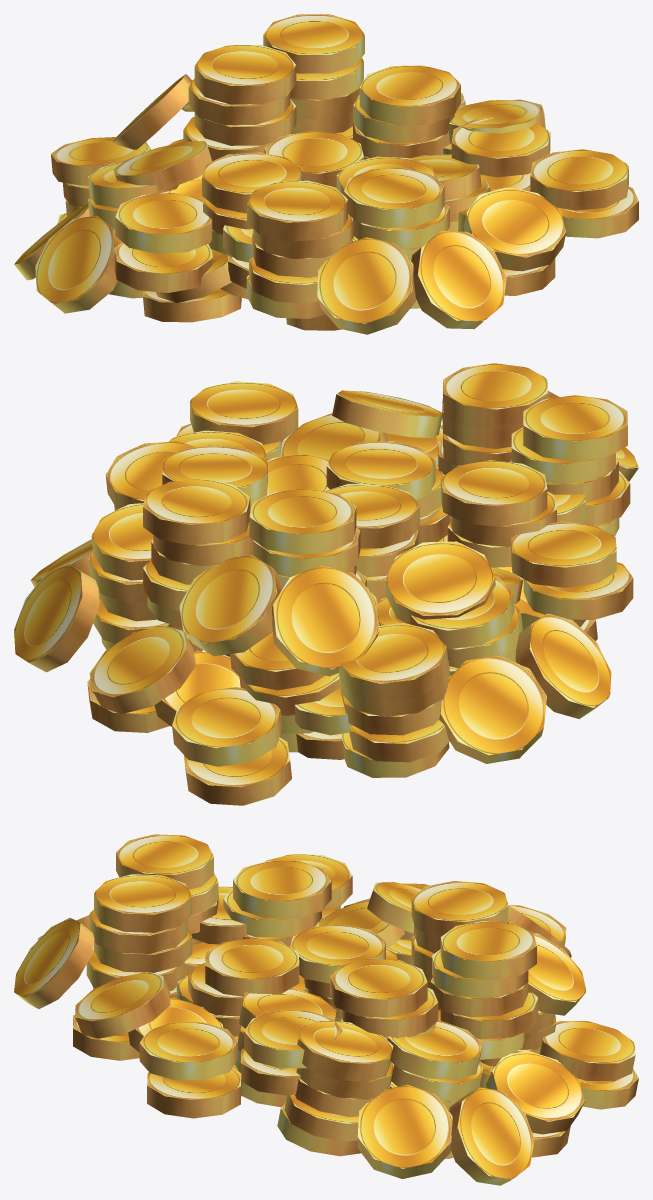
File: coin7.obj
The picture shows the model from 3 angles, top to bottom: view 1: azimuth 30°, elevation 25°; view 2: azimuth 150°, elevation 25°; view 3: azimuth 270°, elevation 25°; orthographic projection. The views are drawn at different scales.
Bounding box in the file's own units: 7.83 × 2.97 × 8.55.
